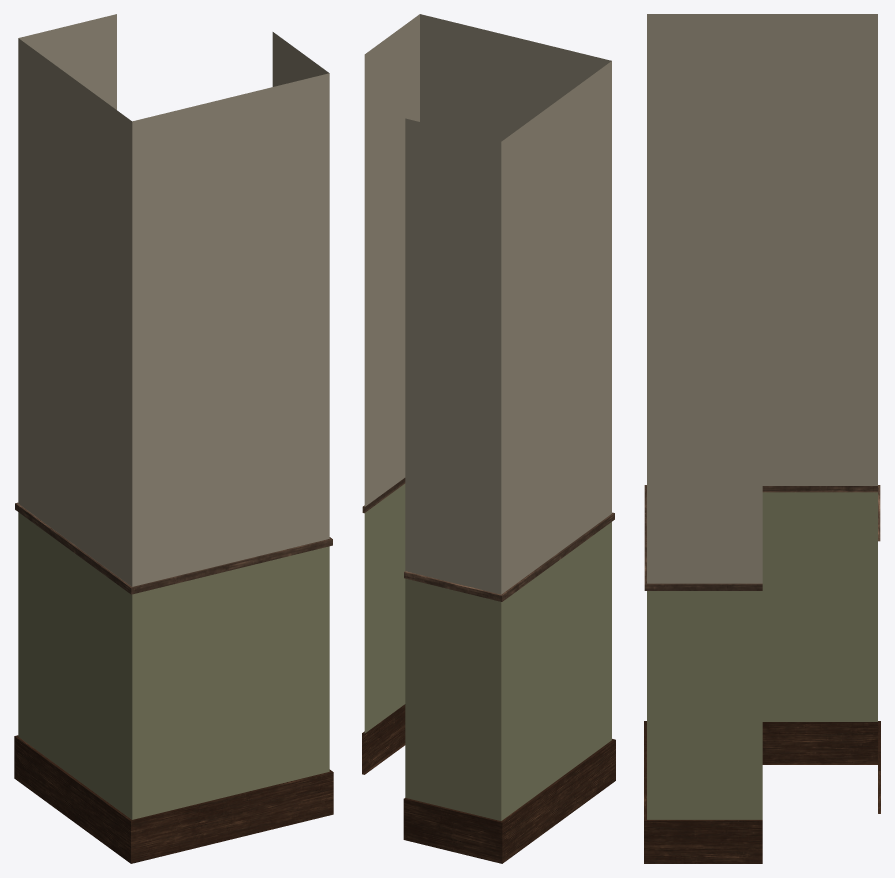
File: Corner_Pillar.fbx
3 renders of one model, left to right at view 1: azimuth 30°, elevation 25°; view 2: azimuth 150°, elevation 25°; view 3: azimuth 270°, elevation 25°, orthographic. The views are drawn at different scales.
Visible parts, largest first — view 1: Half_Pillar.002; view 2: Half_Pillar.002; view 3: Half_Pillar.002.
Boxes of the visible parts, bbox=[...] form: Half_Pillar.002: bbox=[14, 14, 333, 863]; Half_Pillar.002: bbox=[362, 14, 615, 863]; Half_Pillar.002: bbox=[644, 14, 880, 863].
Bounding box in the file's own units: 100 × 350 × 100.
